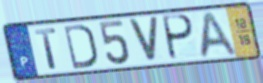5: (97, 19, 132, 67)
A: (198, 9, 240, 60)
D: (62, 22, 99, 71)
P: (162, 13, 196, 62)
T: (33, 27, 59, 71)
V: (126, 16, 160, 64)
